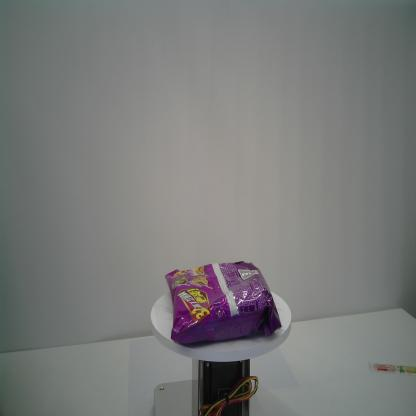Instant Noodles: (165, 260, 282, 346)
